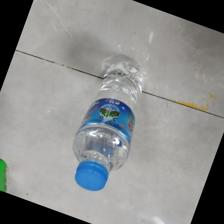Lavie: (71, 57, 144, 193)
